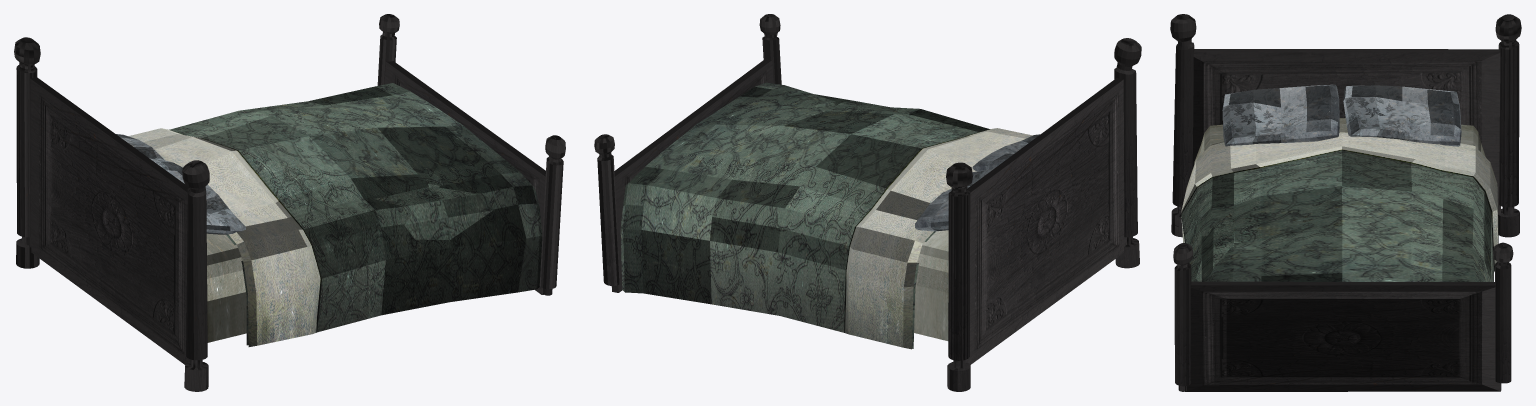
The model's file is FPH_Bed.fbx.
3 views of the same model, side by side, from view 1: azimuth 30°, elevation 25°; view 2: azimuth 150°, elevation 25°; view 3: azimuth 270°, elevation 25° (orthographic). The views are drawn at different scales.
Parts seen in each view (by area): view 1: FPH_Bed; view 2: FPH_Bed; view 3: FPH_Bed.
Boxes of the visible parts, box(x1,y1,x2,y2) form: FPH_Bed: box(14, 14, 565, 391); FPH_Bed: box(594, 14, 1141, 391); FPH_Bed: box(1170, 14, 1521, 391).
Bounding box in the file's own units: 10.87 × 6.12 × 9.03.
1 material, 1 textured.
